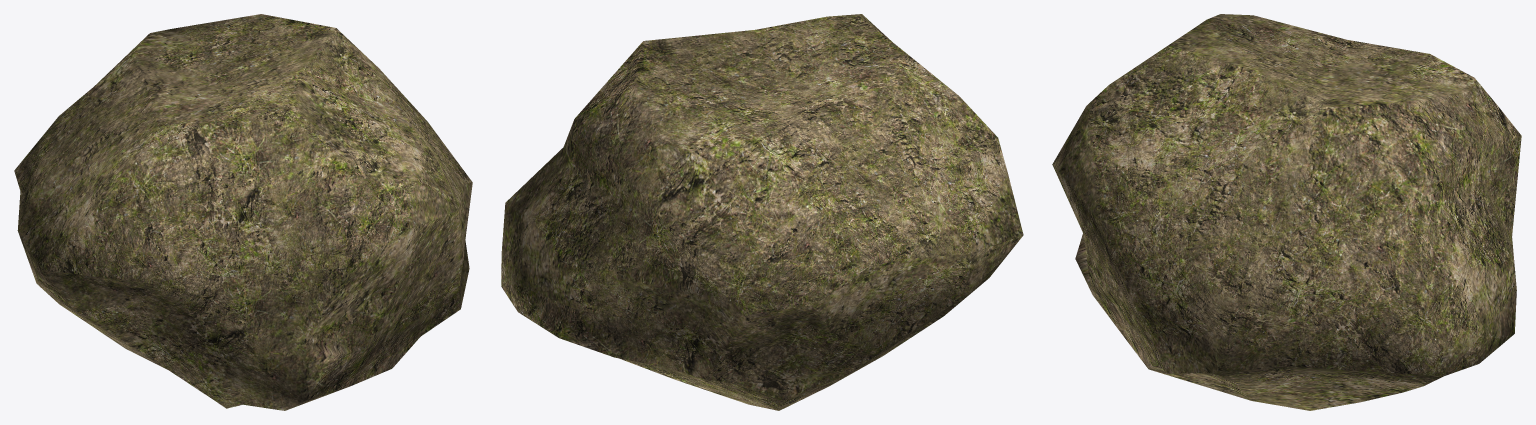
The model's file is Rock01.FBX.
3 renders of one model, left to right at view 1: azimuth 30°, elevation 25°; view 2: azimuth 150°, elevation 25°; view 3: azimuth 270°, elevation 25°, orthographic. The views are drawn at different scales.
Visible parts, largest first — view 1: Rock01; view 2: Rock01; view 3: Rock01.
Part boxes in pixels (x1,y1,x2,y2): Rock01: (14, 14, 472, 410); Rock01: (501, 14, 1023, 410); Rock01: (1052, 14, 1521, 410).
Bounding box in the file's own units: 918 × 706 × 859.
